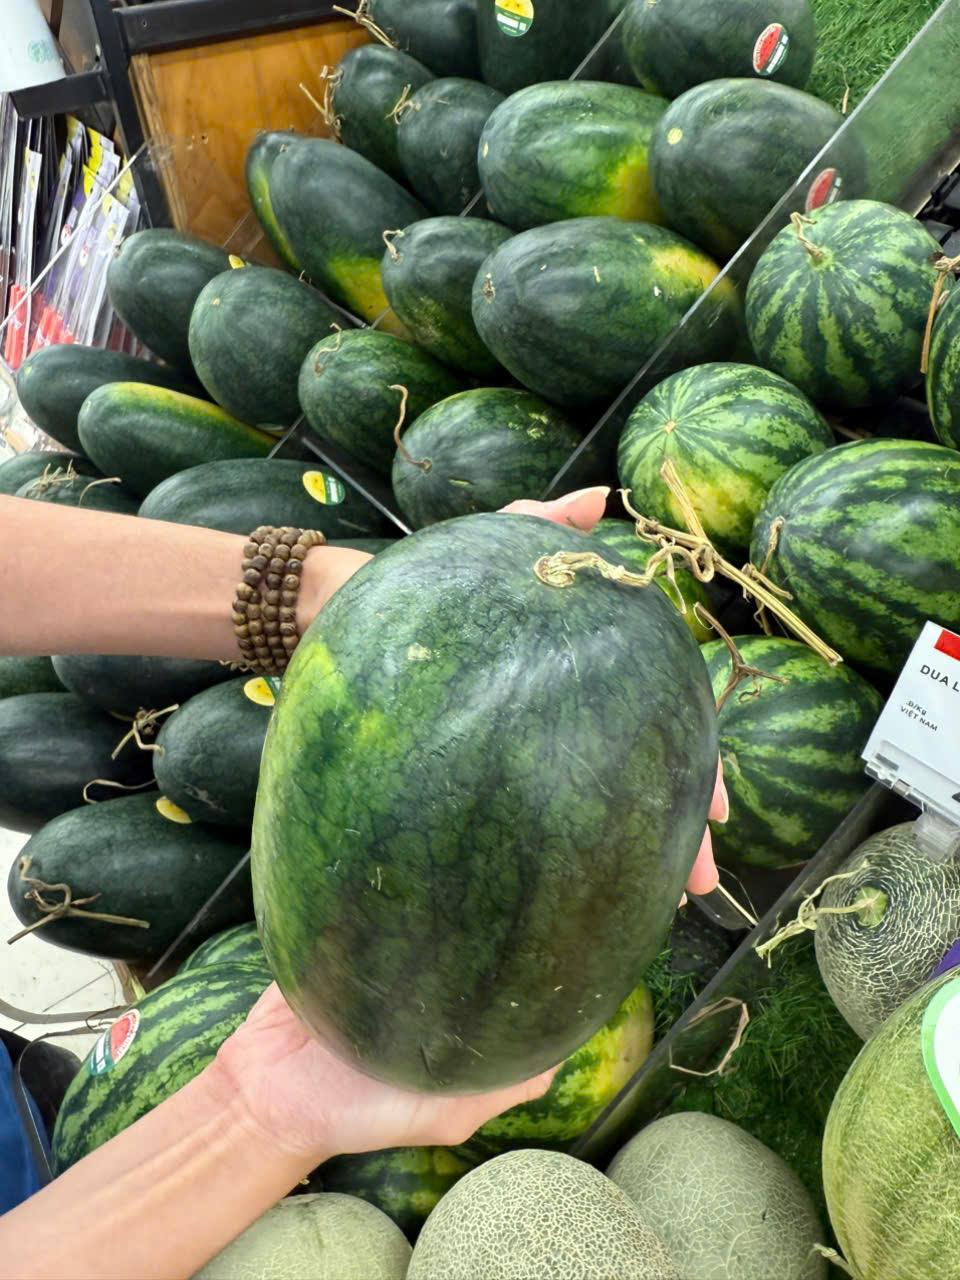watermelon: (257, 511, 716, 1087), (470, 206, 752, 390), (750, 435, 960, 668), (610, 363, 828, 545), (747, 196, 940, 392), (482, 73, 656, 220), (652, 66, 800, 238), (380, 395, 570, 502), (272, 133, 384, 303), (188, 270, 292, 409), (387, 208, 468, 346)
